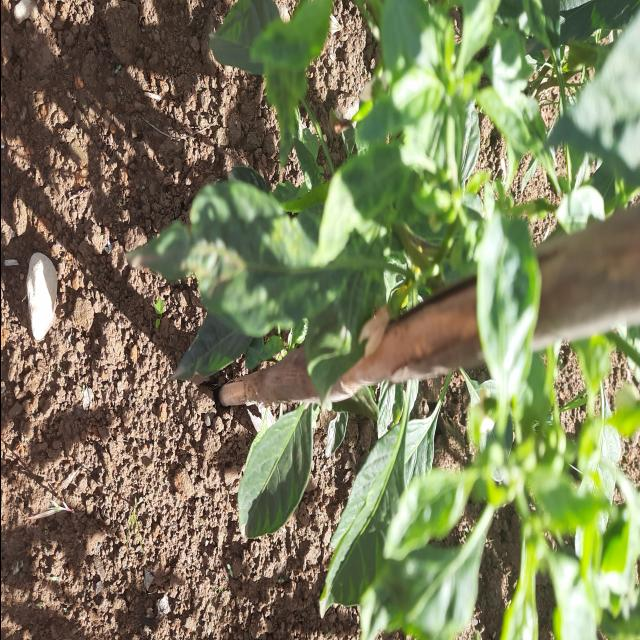sehat: (227, 404, 317, 549)
